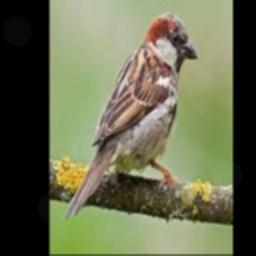Sparrow: (66, 12, 199, 217)
